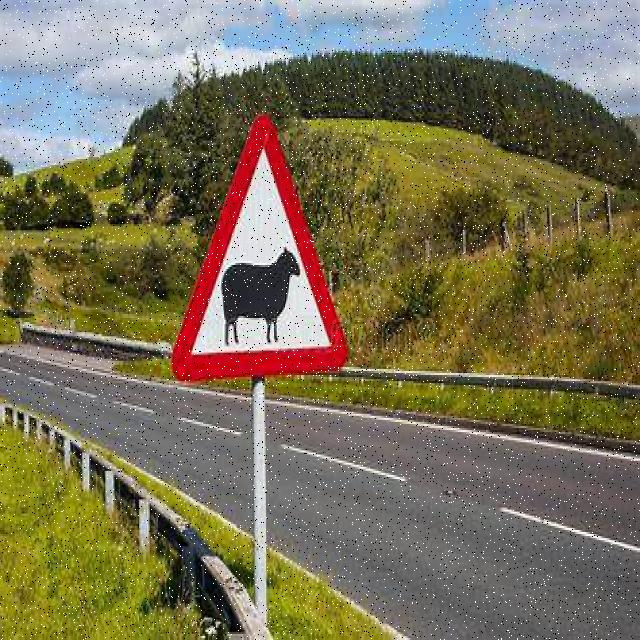cattle: (170, 109, 348, 386)
